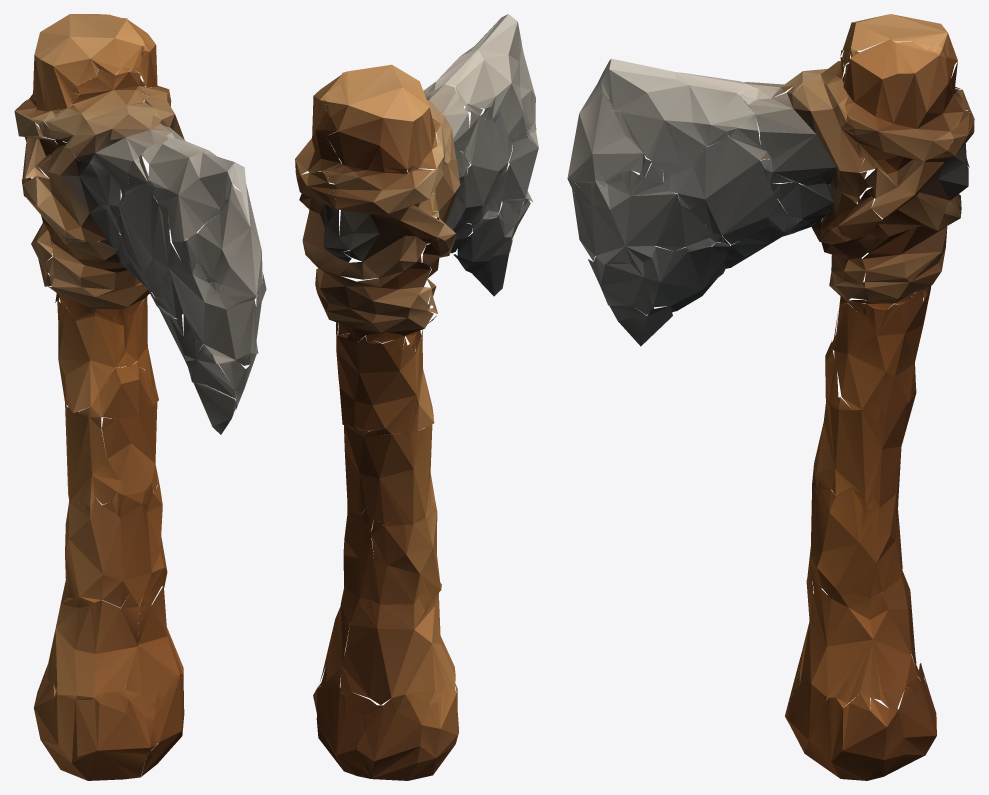
File: stoneAxe.glb
3 views of the same model, side by side, from view 1: azimuth 30°, elevation 25°; view 2: azimuth 150°, elevation 25°; view 3: azimuth 270°, elevation 25° (orthographic). The views are drawn at different scales.
Parts seen in each view (by area): view 1: 0_stoneAxe; view 2: 0_stoneAxe; view 3: 0_stoneAxe.
Boxes of the visible parts, box(x1,y1,x2,y2) form: 0_stoneAxe: box(14, 14, 266, 780); 0_stoneAxe: box(295, 14, 538, 780); 0_stoneAxe: box(567, 14, 974, 780).
Size of the model in its own units: 0.1186 by 0.5598 by 0.2794.
